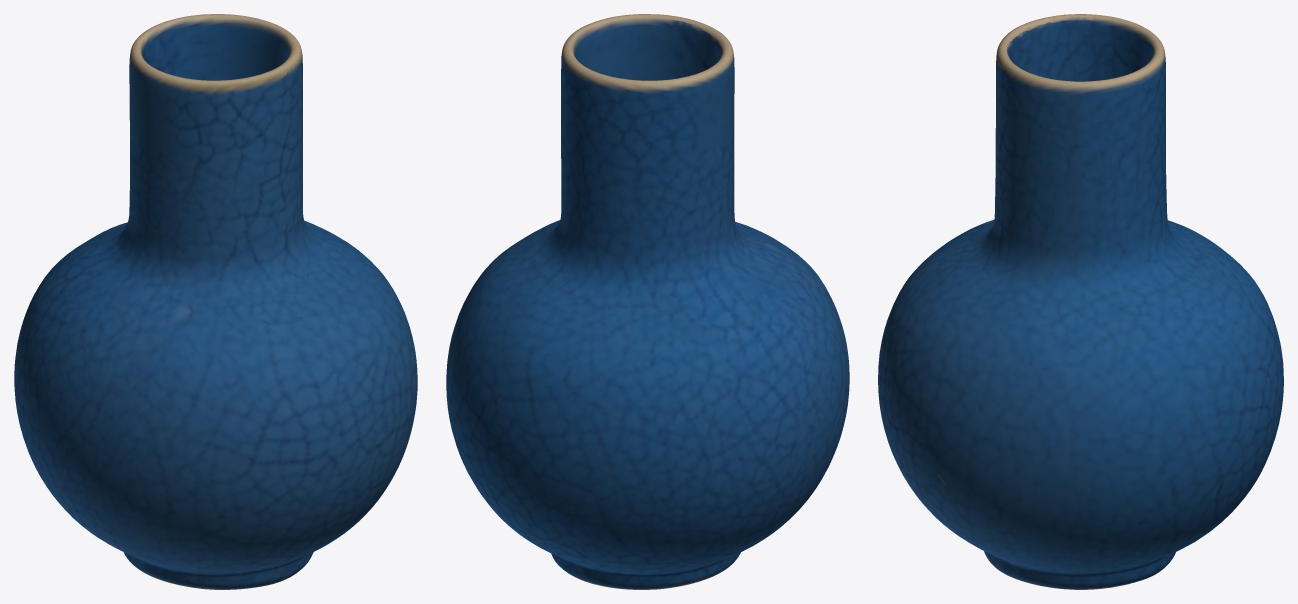
File: Item_V01.fbx
3 views of the same model, side by side, from view 1: azimuth 30°, elevation 25°; view 2: azimuth 150°, elevation 25°; view 3: azimuth 270°, elevation 25° (orthographic).
Visible parts, largest first — view 1: Body_V01; view 2: Body_V01; view 3: Body_V01.
Boxes of the visible parts, x1,y1,x2,y2 form: Body_V01: (14, 14, 417, 589); Body_V01: (446, 14, 849, 589); Body_V01: (878, 14, 1283, 589).
Size of the model in its own units: 0.1718 by 0.24 by 0.1741.
